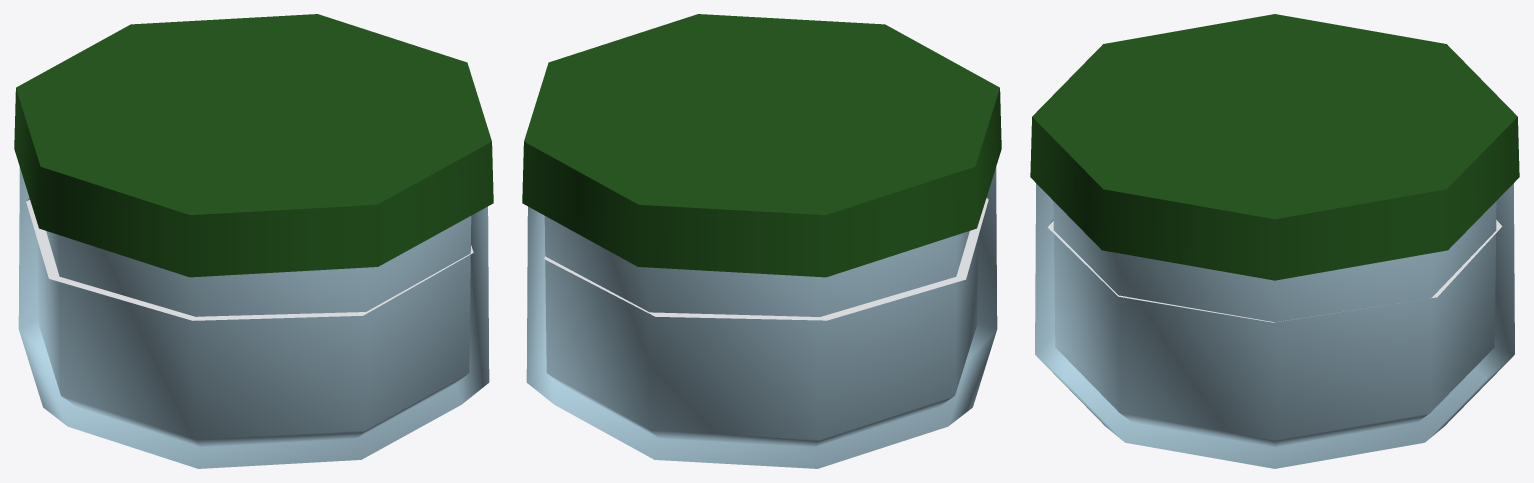
The model's file is Lotion Cylinder.glb.
3 renders of one model, left to right at view 1: azimuth 30°, elevation 25°; view 2: azimuth 150°, elevation 25°; view 3: azimuth 270°, elevation 25°, orthographic.
Visible parts, largest first — view 1: lotion_cylinder_cap.001, lotion_cylinder.001; view 2: lotion_cylinder_cap.001, lotion_cylinder.001; view 3: lotion_cylinder_cap.001, lotion_cylinder.001.
Boxes of the visible parts, x1,y1,x2,y2 form: lotion_cylinder_cap.001: (14,14,493,277); lotion_cylinder.001: (18,167,489,468); lotion_cylinder_cap.001: (522,14,1001,277); lotion_cylinder.001: (526,167,997,468); lotion_cylinder_cap.001: (1030,14,1519,280); lotion_cylinder.001: (1035,183,1514,468).
Bounding box in the file's own units: 22.14 × 13.12 × 22.14.
Materials: 1 (1 with a texture image).
